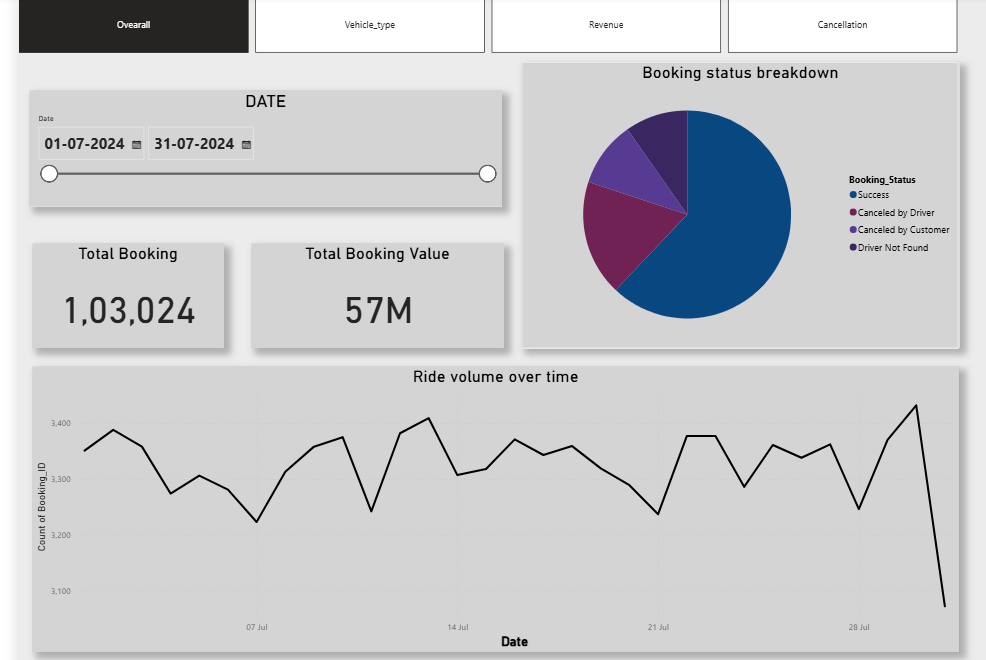

The dashboard page shown, as its layout file describes it:
{"tool":"powerbi","page":{"name":"Ovearall","canvas":[1400,1000],"ordinal":0},"visuals":[{"type":"lineChart","title":"Ride volume over time","fields":{"Y":["CountNonNull(Booking.Booking_ID)"],"Category":["Booking.Date"]},"box":[18.9,537.3,1341.1,413.4],"z":0},{"type":"pieChart","title":"Booking status breakdown","fields":{"Category":["Booking.Booking_Status"],"Y":["Sum(Booking.Booking_Value)"]},"box":[726.2,96.5,633.8,413.4],"z":1000},{"type":"slicer","title":"DATE","fields":{"Values":["Booking.Date"]},"box":[16,136,684,168],"z":2000},{"type":"card","title":"Total Booking","fields":{"Values":["CountNonNull(Booking.Booking_ID)"]},"box":[18.9,358.9,277,151.1],"z":3000},{"type":"card","title":"Total Booking Value","fields":{"Values":["Sum(Booking.Booking_Value)"]},"box":[335.8,358.9,365.2,151.1],"z":4000},{"type":"pageNavigator","box":[0,0,1360,82],"z":5000}]}

Visuals, with their boxes on the page's 1400x1000 design canvas (x1, y1, x2, y2). These are canvas units, not pixel positions in the 986x660 screenshot, which may show the page scaled, cropped or inside an application window:
"Ride volume over time" lineChart: (19,537,1360,951)
"Booking status breakdown" pieChart: (726,96,1360,510)
"DATE" slicer: (16,136,700,304)
"Total Booking" card: (19,359,296,510)
"Total Booking Value" card: (336,359,701,510)
pageNavigator: (0,0,1360,82)
